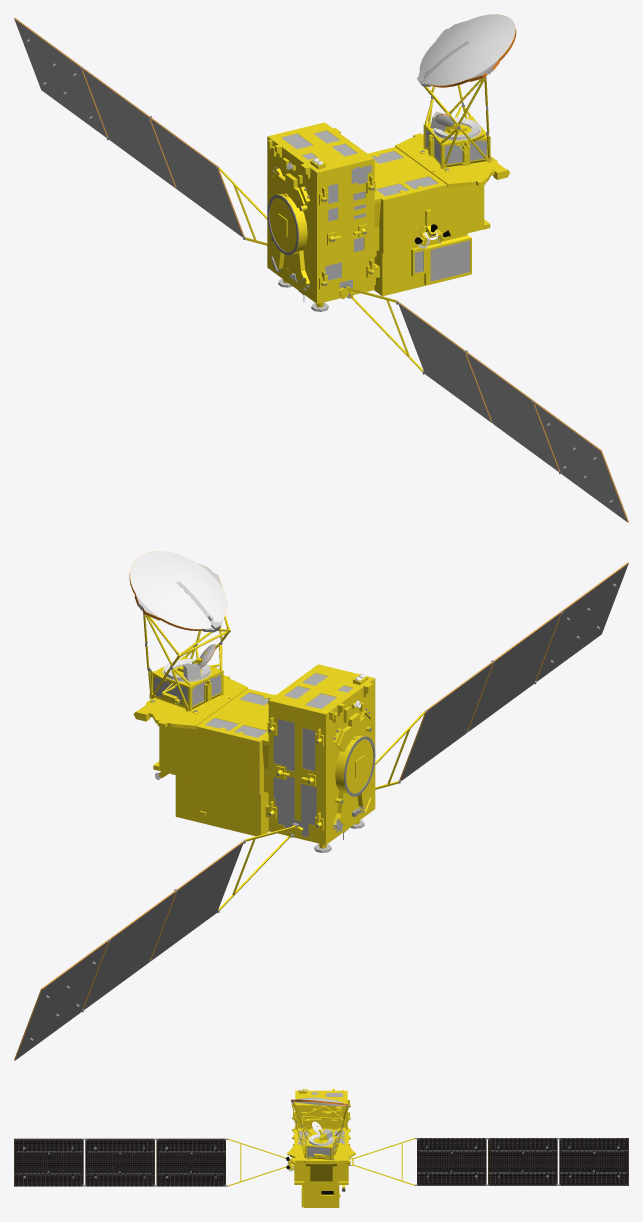
Rendered from gll3.glb.
The picture shows the model from 3 angles, top to bottom: view 1: azimuth 30°, elevation 25°; view 2: azimuth 150°, elevation 25°; view 3: azimuth 270°, elevation 25°; orthographic projection. The views are drawn at different scales.
Visible parts, largest first — view 1: GOSAT-GW_MB, GOSAT-GW_SAP001, GOSAT-GW_SAP002, GOSAT-GW_IB, GOSAT-GW_AMSR, GOSAT-GW_TANSO; view 2: GOSAT-GW_MB, GOSAT-GW_SAP002, GOSAT-GW_SAP001, GOSAT-GW_AMSR, GOSAT-GW_IB, GOSAT-GW_TANSO; view 3: GOSAT-GW_SAP001, GOSAT-GW_SAP002, GOSAT-GW_IB, GOSAT-GW_AMSR, GOSAT-GW_MB, GOSAT-GW_TANSO.
Part boxes in pixels (bbox=[...]): GOSAT-GW_MB: bbox=[267, 122, 380, 311]; GOSAT-GW_SAP001: bbox=[338, 283, 628, 522]; GOSAT-GW_SAP002: bbox=[14, 18, 267, 245]; GOSAT-GW_IB: bbox=[368, 133, 510, 253]; GOSAT-GW_AMSR: bbox=[417, 14, 516, 169]; GOSAT-GW_TANSO: bbox=[374, 233, 471, 296]; GOSAT-GW_MB: bbox=[262, 664, 375, 852]; GOSAT-GW_SAP002: bbox=[14, 822, 303, 1060]; GOSAT-GW_SAP001: bbox=[375, 562, 628, 789]; GOSAT-GW_AMSR: bbox=[129, 551, 230, 711]; GOSAT-GW_IB: bbox=[133, 675, 272, 795]; GOSAT-GW_TANSO: bbox=[175, 775, 268, 836]; GOSAT-GW_SAP001: bbox=[14, 1138, 292, 1186]; GOSAT-GW_SAP002: bbox=[348, 1138, 628, 1185]; GOSAT-GW_IB: bbox=[285, 1129, 355, 1191]; GOSAT-GW_AMSR: bbox=[291, 1097, 349, 1160]; GOSAT-GW_MB: bbox=[292, 1089, 350, 1162]; GOSAT-GW_TANSO: bbox=[301, 1183, 340, 1207].
Size of the model in its own units: 5.12 by 5.39 by 23.05.
5 materials, 5 textured.
